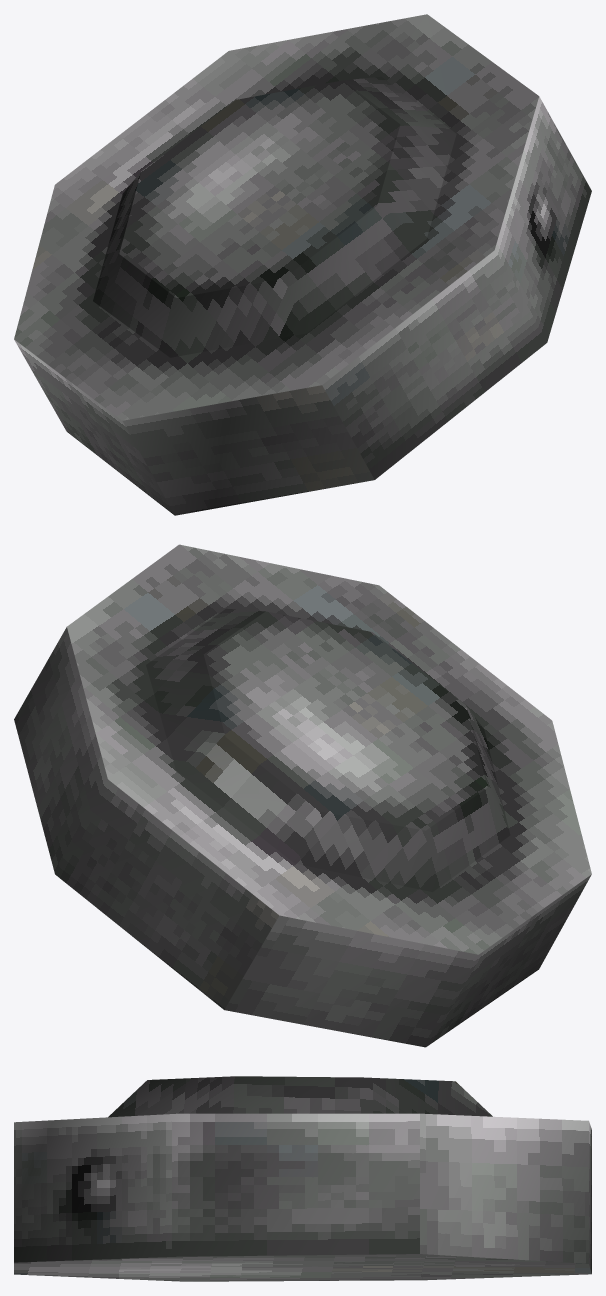
Rendered from Mine03_AntiTank_Small.glb.
The picture shows the model from 3 angles, top to bottom: view 1: azimuth 30°, elevation 25°; view 2: azimuth 150°, elevation 25°; view 3: azimuth 270°, elevation 25°; orthographic projection. The views are drawn at different scales.
Visible parts, largest first — view 1: MINE03_ANTITANK_SMALL; view 2: MINE03_ANTITANK_SMALL; view 3: MINE03_ANTITANK_SMALL.
Boxes of the visible parts, x1,y1,x2,y2 form: MINE03_ANTITANK_SMALL: [14, 14, 591, 515]; MINE03_ANTITANK_SMALL: [14, 544, 591, 1047]; MINE03_ANTITANK_SMALL: [14, 1076, 591, 1281].
Size of the model in its own units: 0.195 by 0.133 by 0.195.
Materials: 1 (1 with a texture image).
